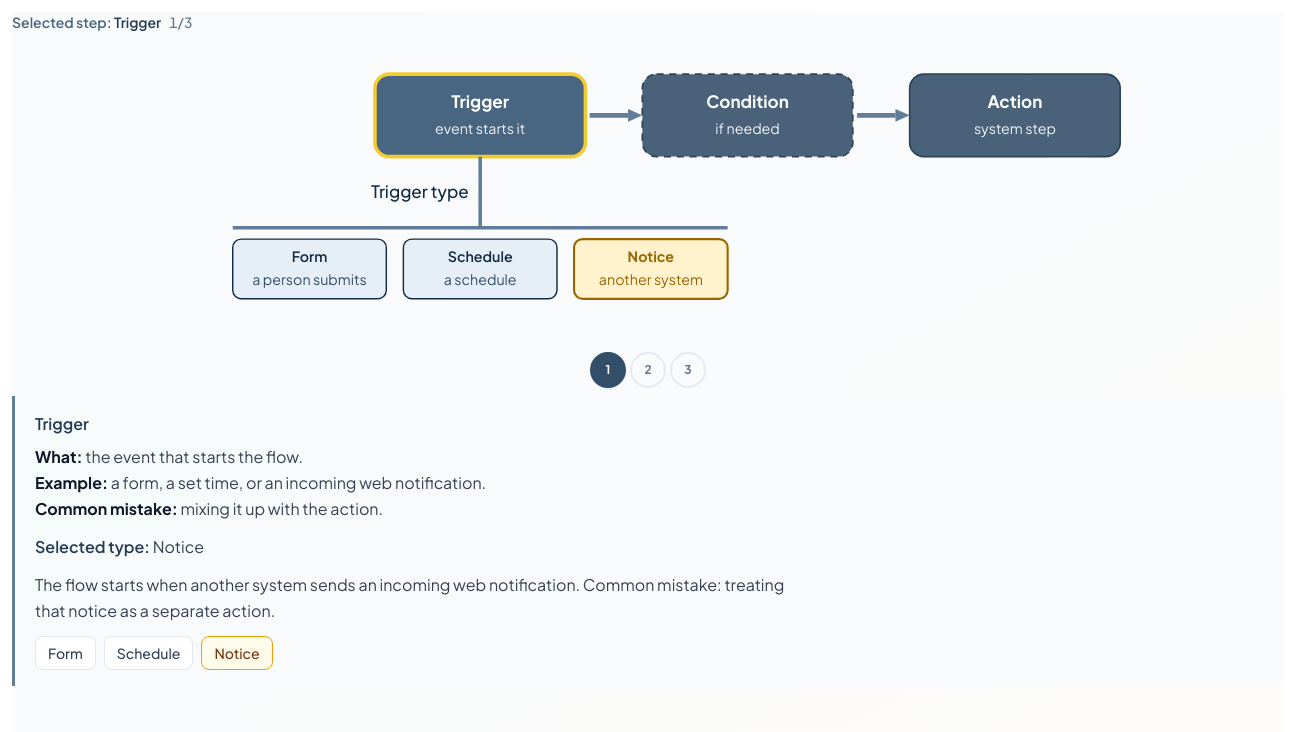
Test case: M10TriggerFlowBlock process-config-hierarchy › updates the type appendix from the HTML radios without changing Shell step
The image size is (1292, 732).
Click the radio button labelled "Form": point(65, 653) [35,636,96,670]
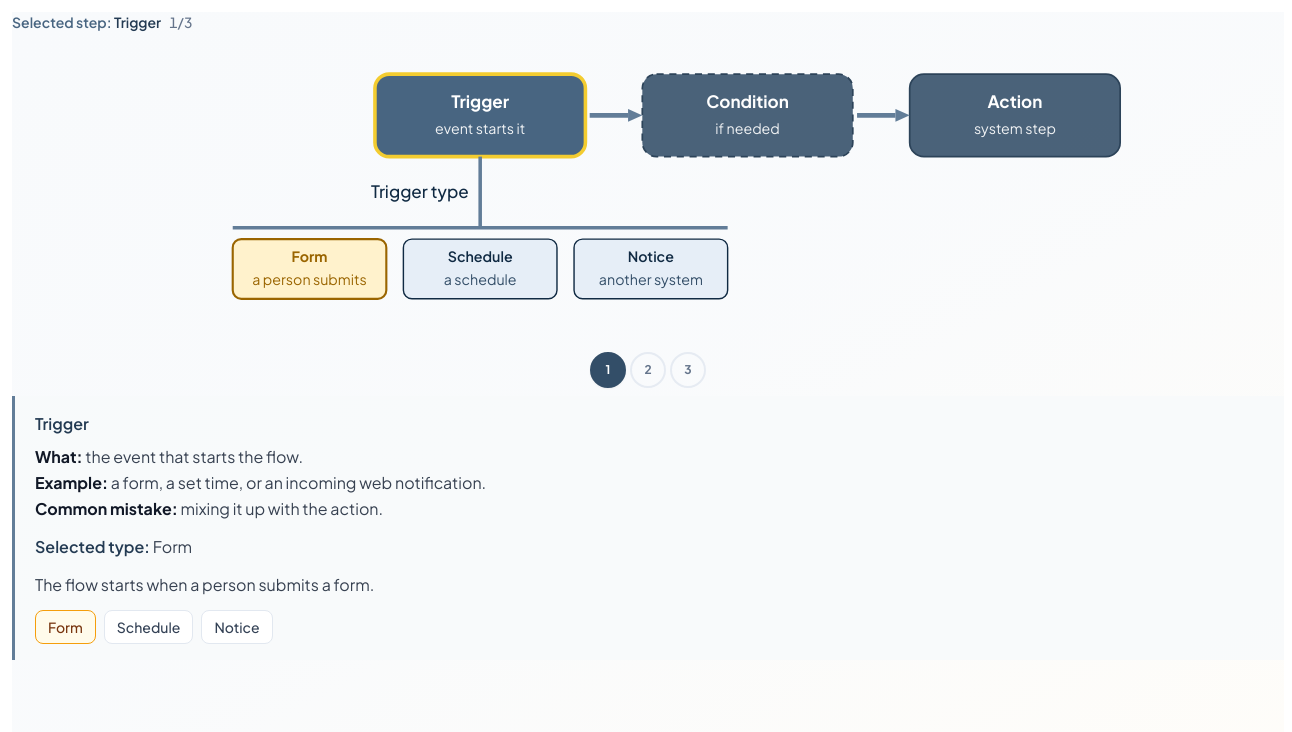
Check: the text "Selected type:" is shown, box [35,536,153,557]
Check: the text "The flow starts when a person submits a form." is shown, box [35,574,374,595]
